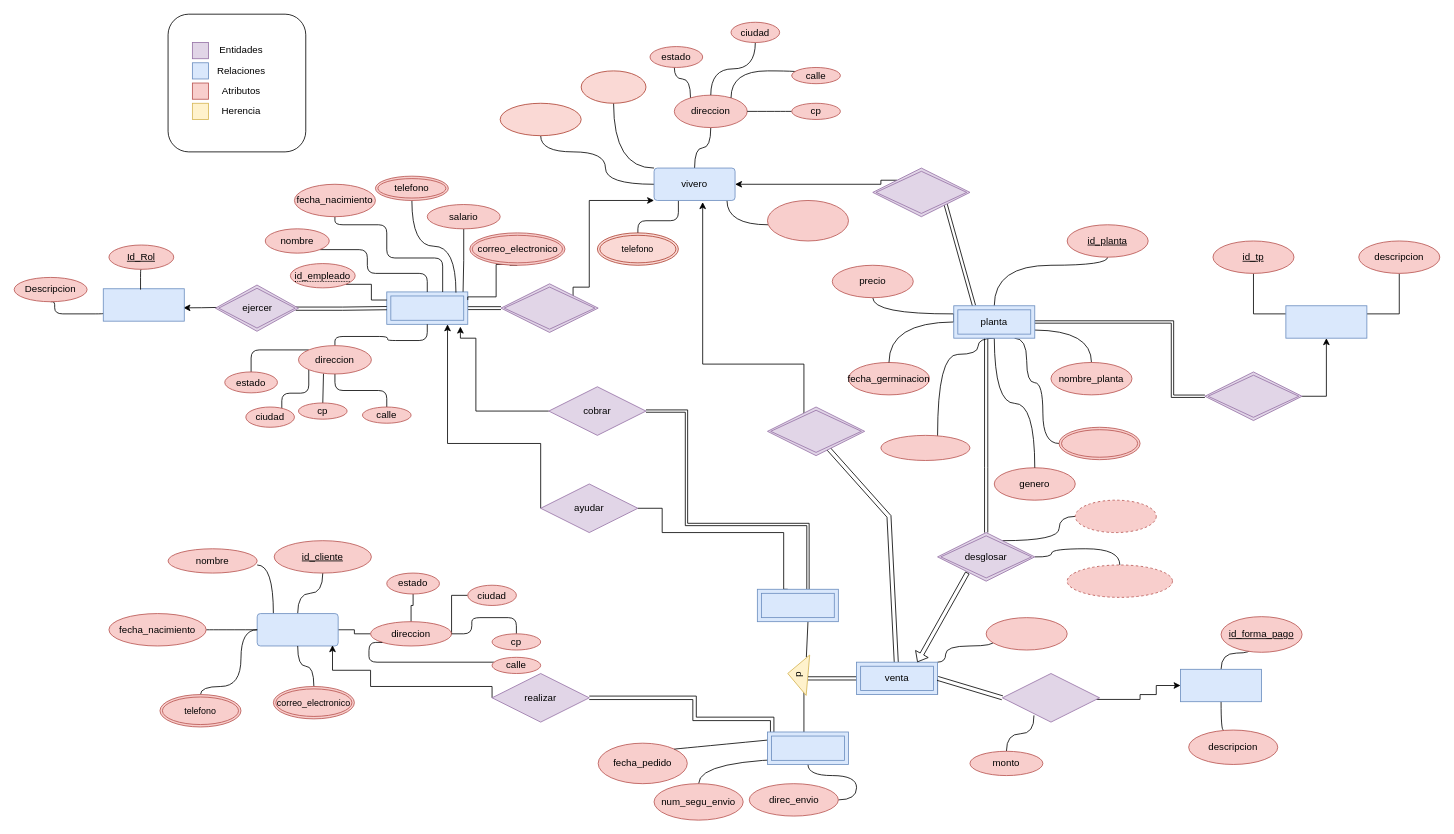
Some shapes in this 1454 by 834 pixel diagram are drawn without their labels. Here are the shapes that lost their labels. From the top down, the centre of each, then its label:
At point 613,86: "id_vivero".
At point 540,119: "nombre_vivero".
At point 921,192: "contener".
At point 807,220: "fecha_apertura".
At point 143,304: "c_rol".
At point 427,307: "empleado".
At point 549,307: "trabajar_en".
At point 1326,321: "c_tipo_planta".
At point 1253,396: "ser".
At point 816,431: "vender".
At point 925,447: "sustrato".
At point 1099,443: "cuidado_basico".
At point 1115,516: "precio_total".
At point 1119,580: "numero_productos".
At point 797,605: "venta_fisica".
At point 297,629: "cliente".
At point 1026,633: "id_venta".
At point 1051,697: "pagar".
At point 1221,685: "c_forma_de_pago".
At point 807,747: "venta_linea".
